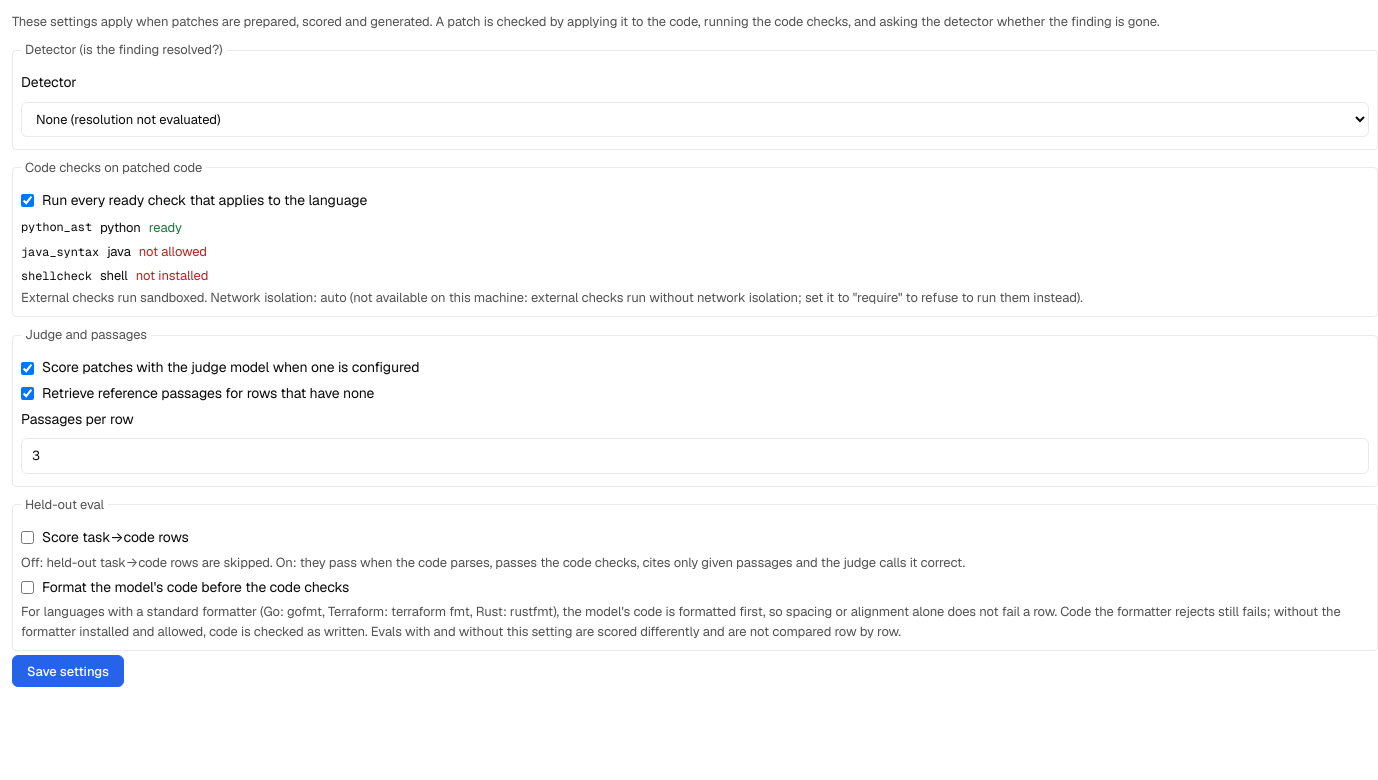
RemediationConfigCard › shows a validation error from the server
Click the button with test id "rem-save".
click(68, 671)  # box [12, 655, 124, 687]
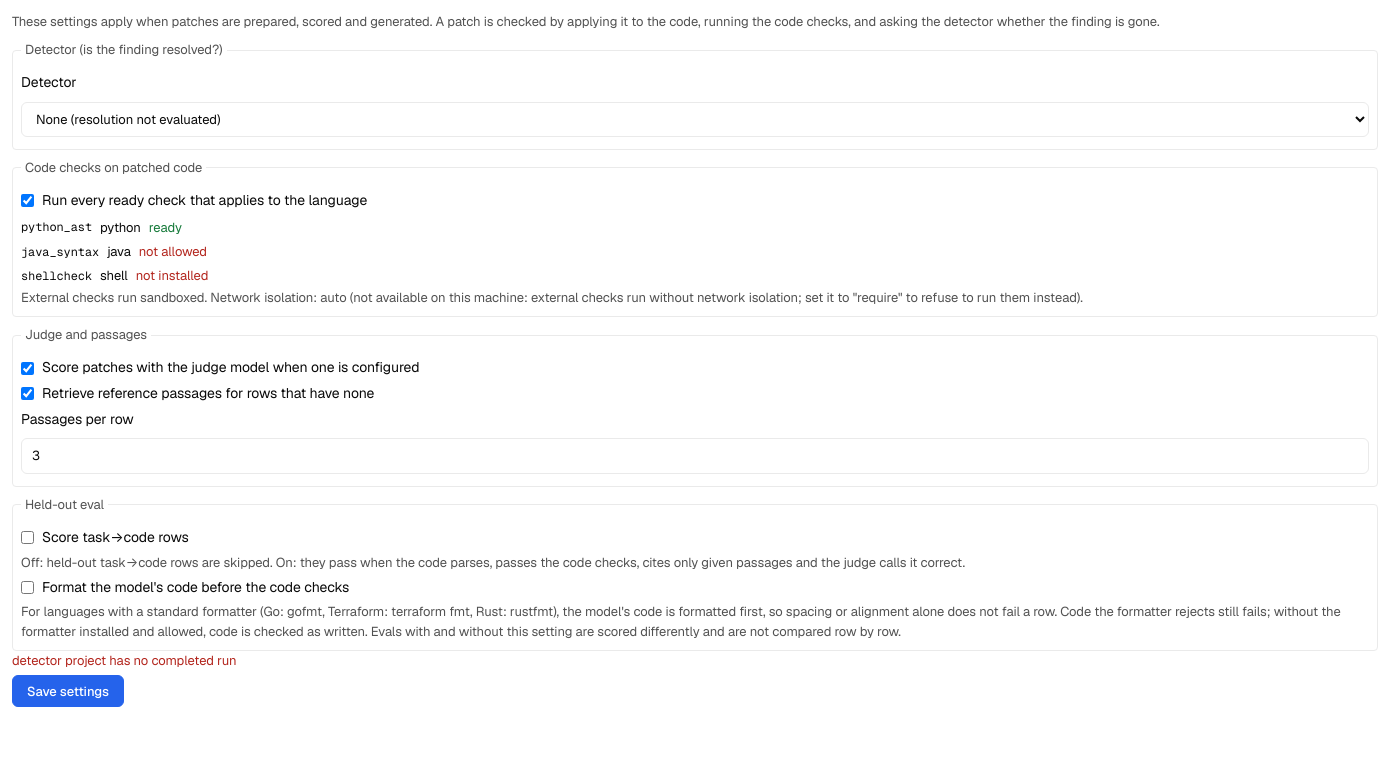
Expected: the text with test id "rem-save-error" reads "detector project has no completed run", [12, 652, 237, 669]
